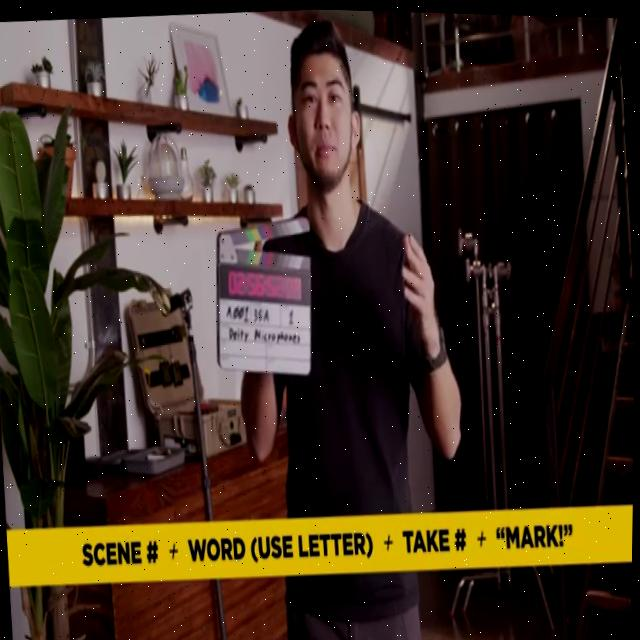Clapperboard: (202, 208, 320, 387)
